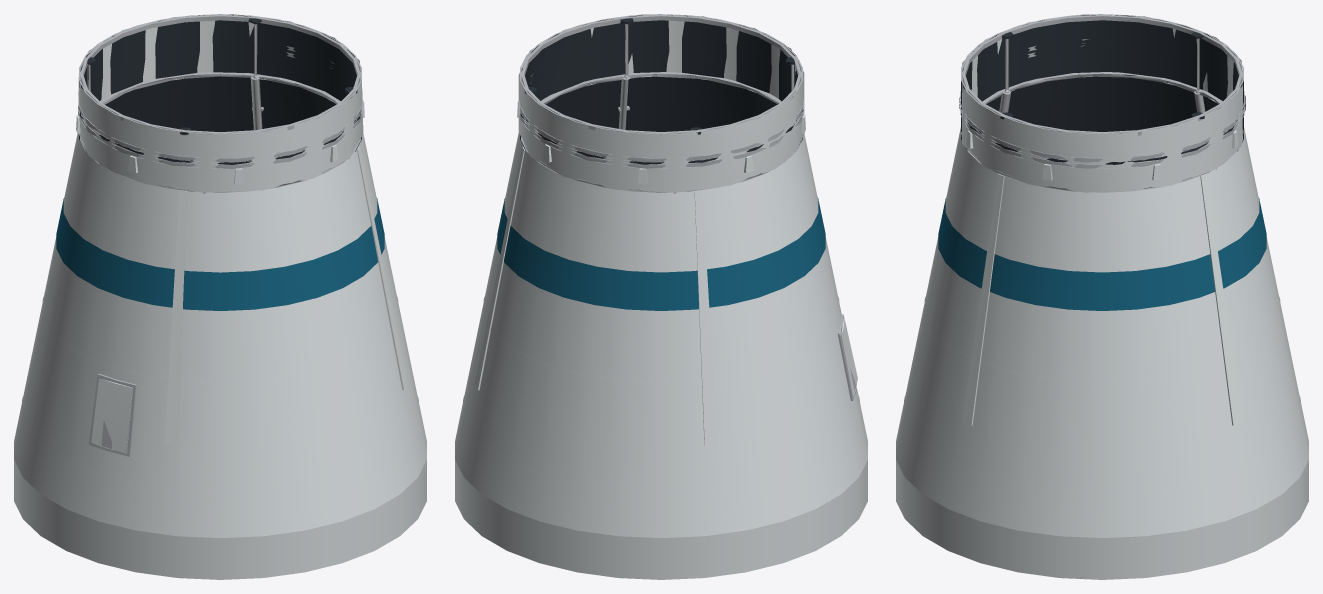
File: interstage_pneumatic_d54_to_d37.glb
3 renders of one model, left to right at view 1: azimuth 30°, elevation 25°; view 2: azimuth 150°, elevation 25°; view 3: azimuth 270°, elevation 25°, orthographic.
Parts seen in each view (by area): view 1: interstage_pneumatic_d54_to_d37_mesh; view 2: interstage_pneumatic_d54_to_d37_mesh; view 3: interstage_pneumatic_d54_to_d37_mesh.
Boxes of the visible parts, x1,y1,x2,y2 form: interstage_pneumatic_d54_to_d37_mesh: (14,14,426,579); interstage_pneumatic_d54_to_d37_mesh: (455,14,867,579); interstage_pneumatic_d54_to_d37_mesh: (896,14,1308,579).
Size of the model in its own units: 5.4 by 6 by 5.37.
